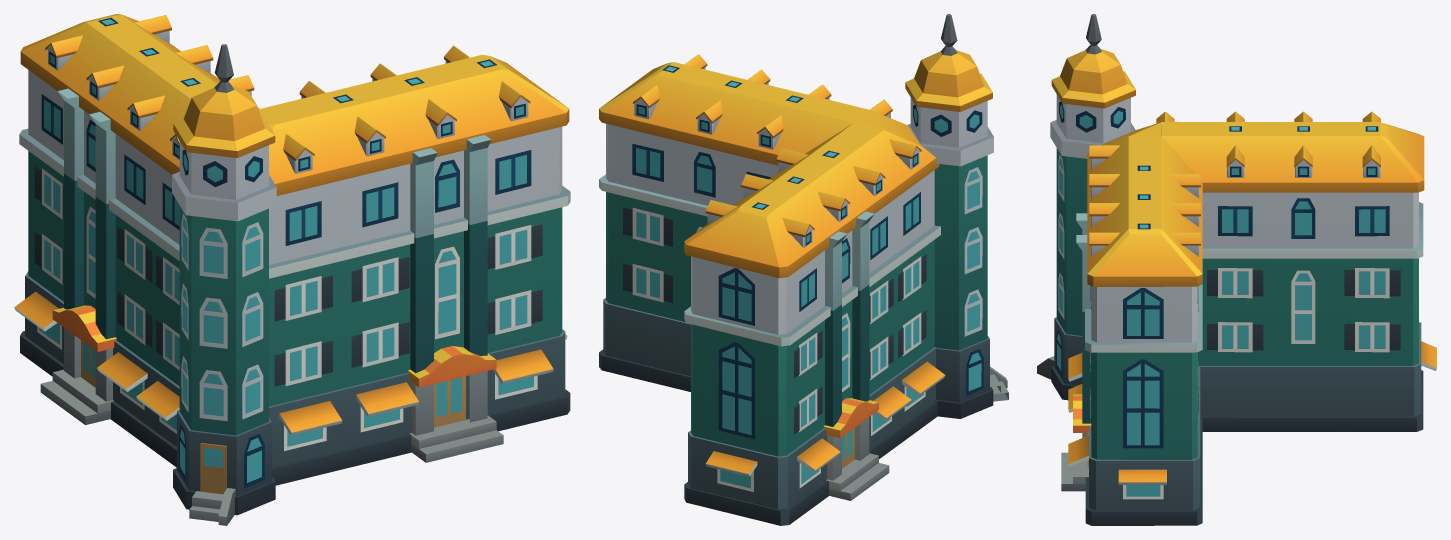
File: Building_cartoon_21.fbx
3 renders of one model, left to right at view 1: azimuth 30°, elevation 25°; view 2: azimuth 150°, elevation 25°; view 3: azimuth 270°, elevation 25°, orthographic. The views are drawn at different scales.
Visible parts, largest first — view 1: Building_cartoon_21; view 2: Building_cartoon_21; view 3: Building_cartoon_21.
Boxes of the visible parts, x1,y1,x2,y2 form: Building_cartoon_21: [14, 14, 570, 525]; Building_cartoon_21: [599, 14, 1008, 525]; Building_cartoon_21: [1037, 14, 1436, 525].
Size of the model in its own units: 2274 by 2373 by 2315.
